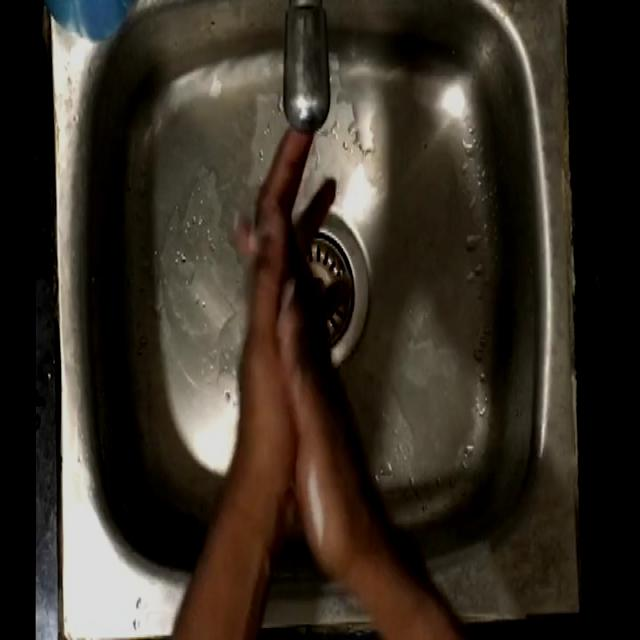step_3: (215, 108, 355, 477)
